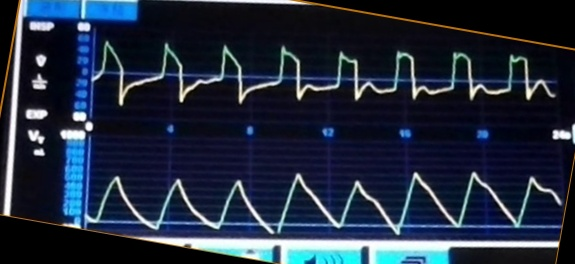Premature_cycling Flow: (94, 38, 554, 111)
Premature_cycling Volume: (91, 167, 560, 232)
